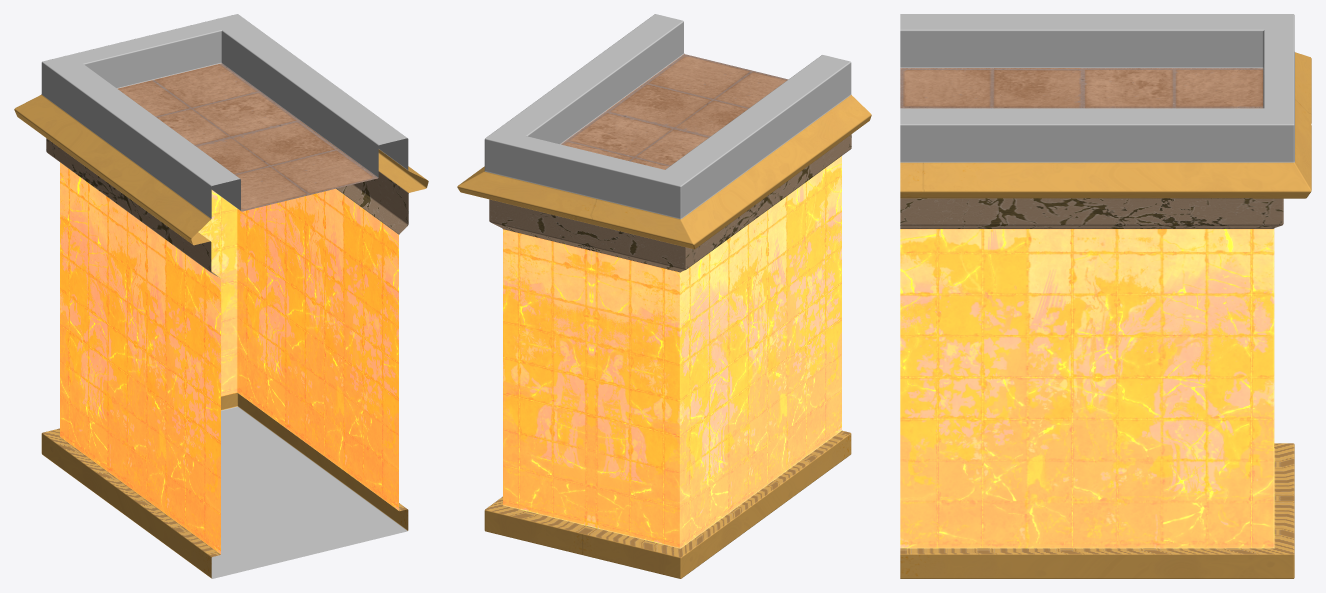
File: SM_Floor_Beam_02_Corner.fbx
3 renders of one model, left to right at view 1: azimuth 30°, elevation 25°; view 2: azimuth 150°, elevation 25°; view 3: azimuth 270°, elevation 25°, orthographic. The views are drawn at different scales.
Parts seen in each view (by area): view 1: SM_Floor_Beam_02_Corner_LOD0; view 2: SM_Floor_Beam_02_Corner_LOD0; view 3: SM_Floor_Beam_02_Corner_LOD0.
Part boxes in pixels (x1,y1,x2,y2): SM_Floor_Beam_02_Corner_LOD0: (14,14,428,578); SM_Floor_Beam_02_Corner_LOD0: (457,14,871,578); SM_Floor_Beam_02_Corner_LOD0: (900,14,1311,578).
Size of the model in its own units: 241 by 313 by 382.
